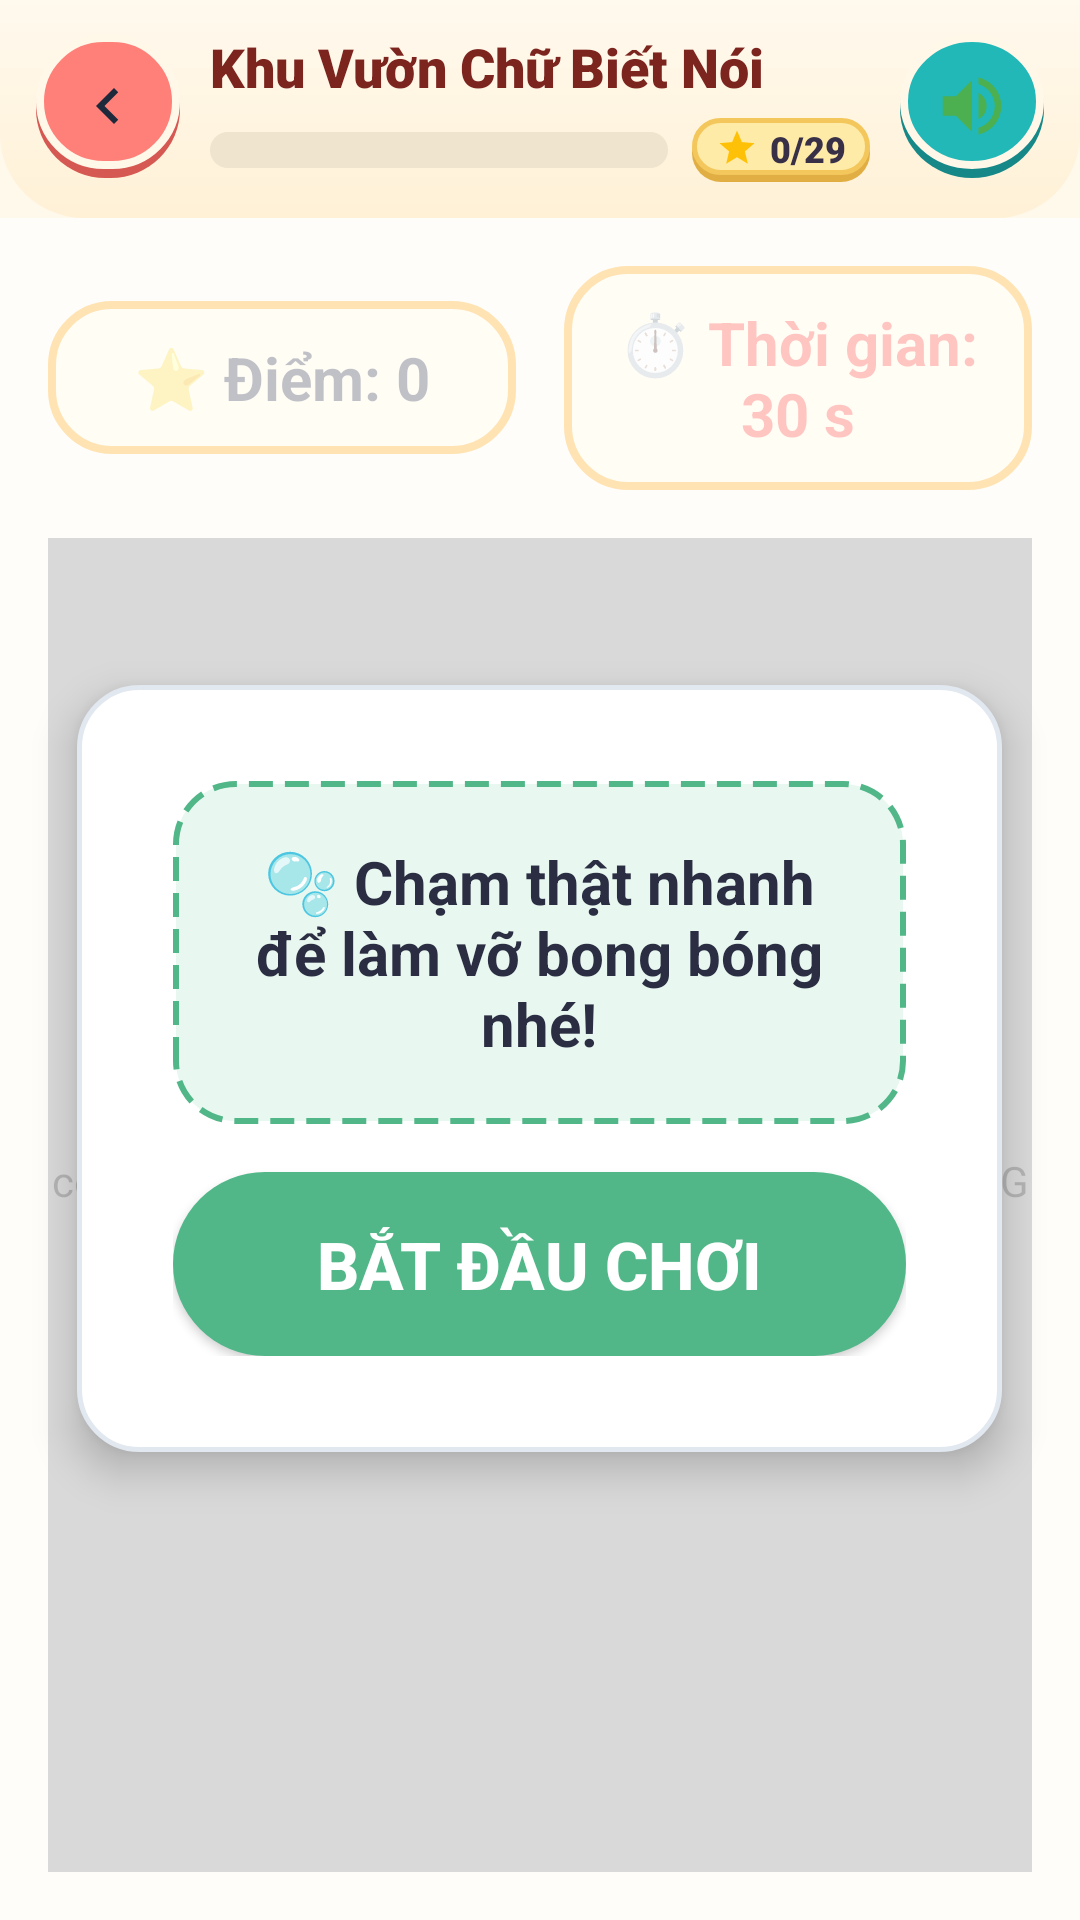

Where icons sit on this 1080*1920 app screen, as bbox(x1, y1, x2, y2):
Bật hoặc tắt âm thanh ứng dụng: bbox(900, 42, 1044, 178)
Quay lại: bbox(36, 42, 180, 178)
star: bbox(720, 131, 754, 164)
